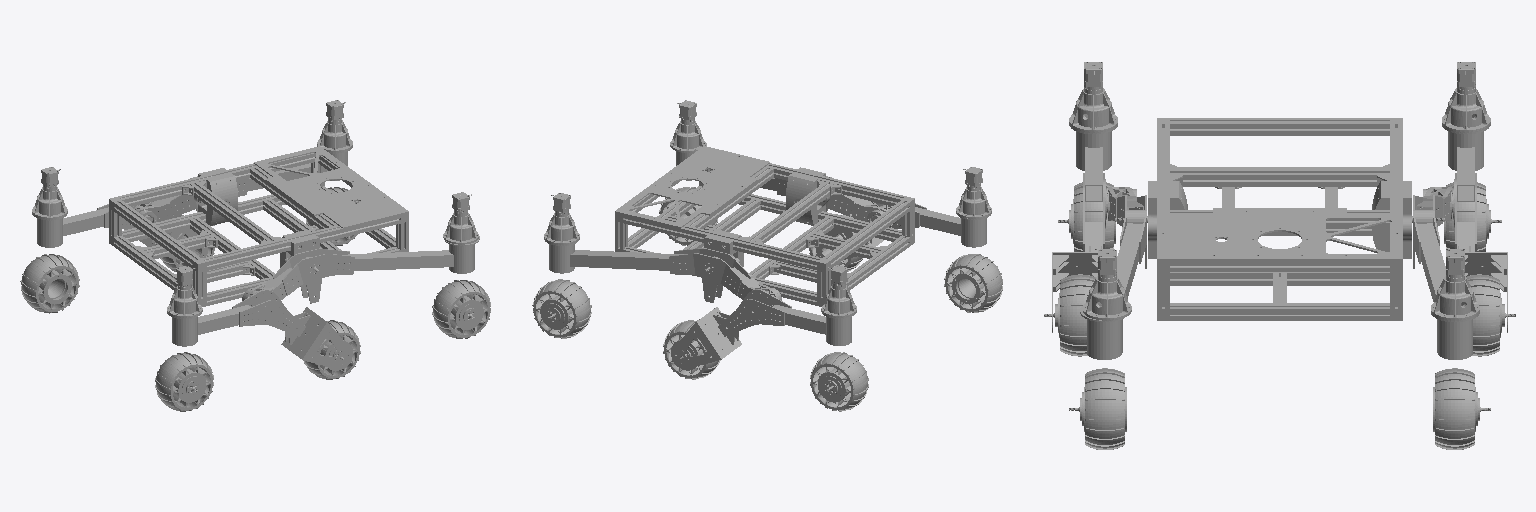
--- What the picture shows (computed from the rendered views, not written in the file) ---
3 views of the same robot in one strip: view 1: azimuth 30°, elevation 25°; view 2: azimuth 150°, elevation 25°; view 3: azimuth 270°, elevation 25° (orthographic).
Model cc8 with 18 links and 17 joints (14 continuous, 3 fixed), rooted at base_footprint, posed all joints at 0.
Visible links, largest first — view 1: base_link, bogie_R_1, rocker_R_1, bogie_L_1, rocker_L_1, wheel_RR_1, wheel_RL_1, wheel_FR_1, wheel_MR_1, case_link_L_1, case_link_R_1; view 2: base_link, bogie_L_1, rocker_L_1, bogie_R_1, wheel_FL_1, wheel_RR_1, wheel_RL_1, rocker_R_1, wheel_ML_1, case_link_R_1, case_link_L_1; view 3: base_link, rocker_L_1, rocker_R_1, bogie_R_1, bogie_L_1, wheel_FL_1, wheel_FR_1, wheel_MR_1, wheel_ML_1, case_link_L_1, wheel_RL_1, wheel_RR_1 (+1 smaller).
Boxes of the visible links, bbox=[...] form: base_link: bbox=[109, 146, 408, 306]; bogie_R_1: bbox=[167, 266, 352, 368]; rocker_R_1: bbox=[242, 192, 479, 303]; bogie_L_1: bbox=[32, 167, 207, 259]; rocker_L_1: bbox=[127, 100, 352, 227]; wheel_RR_1: bbox=[155, 352, 213, 411]; wheel_RL_1: bbox=[20, 254, 79, 313]; wheel_FR_1: bbox=[432, 280, 490, 338]; wheel_MR_1: bbox=[304, 320, 360, 379]; case_link_L_1: bbox=[194, 168, 237, 225]; case_link_R_1: bbox=[280, 230, 319, 272]; base_link: bbox=[615, 146, 914, 306]; bogie_L_1: bbox=[671, 265, 856, 368]; rocker_L_1: bbox=[544, 193, 781, 302]; bogie_R_1: bbox=[816, 167, 991, 259]; wheel_FL_1: bbox=[532, 279, 591, 338]; wheel_RR_1: bbox=[944, 254, 1002, 312]; wheel_RL_1: bbox=[810, 352, 868, 411]; rocker_R_1: bbox=[670, 100, 895, 227]; wheel_ML_1: bbox=[663, 320, 720, 379]; case_link_R_1: bbox=[786, 167, 829, 225]; case_link_L_1: bbox=[704, 229, 743, 271]; base_link: bbox=[1157, 118, 1402, 320]; rocker_L_1: bbox=[1413, 187, 1479, 359]; rocker_R_1: bbox=[1080, 187, 1146, 359]; bogie_R_1: bbox=[1052, 62, 1117, 332]; bogie_L_1: bbox=[1442, 62, 1507, 332]; wheel_FL_1: bbox=[1433, 368, 1490, 449]; wheel_FR_1: bbox=[1069, 368, 1126, 449]; wheel_MR_1: bbox=[1044, 274, 1095, 356]; wheel_ML_1: bbox=[1466, 274, 1515, 356]; case_link_L_1: bbox=[1372, 181, 1444, 258]; wheel_RL_1: bbox=[1444, 182, 1501, 251]; wheel_RR_1: bbox=[1058, 182, 1115, 251].
Size in the robot's own frame: 1.18 by 1.05 by 0.4794 metres.
Meshes: 17 distinct files referenced, 13 mesh visuals loaded (13 binary STL); not drawn: 4 (reference not matched to a file when rendering).

robot.urdf — cc8:
<?xml version="1.0" ?>
<!-- =================================================================================== -->
<!-- |    This document was autogenerated by xacro from cc8.xacro                      | -->
<!-- |    EDITING THIS FILE BY HAND IS NOT RECOMMENDED                                 | -->
<!-- =================================================================================== -->
<robot name="cc8">
  <material name="silver">
    <color rgba="0.700 0.700 0.700 1.000"/>
  </material>
  <transmission name="rocker_joint_L_tran">
    <type>transmission_interface/SimpleTransmission</type>
    <joint name="rocker_joint_L">
      <hardwareInterface>hardware_interface/EffortJointInterface</hardwareInterface>
    </joint>
    <actuator name="rocker_joint_L_actr">
      <hardwareInterface>hardware_interface/EffortJointInterface</hardwareInterface>
      <mechanicalReduction>1</mechanicalReduction>
    </actuator>
  </transmission>
  <transmission name="steering_FL_tran">
    <type>transmission_interface/SimpleTransmission</type>
    <joint name="steering_FL">
      <hardwareInterface>hardware_interface/EffortJointInterface</hardwareInterface>
    </joint>
    <actuator name="steering_FL_actr">
      <hardwareInterface>hardware_interface/EffortJointInterface</hardwareInterface>
      <mechanicalReduction>1</mechanicalReduction>
    </actuator>
  </transmission>
  <transmission name="wheel_joint_FL_tran">
    <type>transmission_interface/SimpleTransmission</type>
    <joint name="wheel_joint_FL">
      <hardwareInterface>hardware_interface/EffortJointInterface</hardwareInterface>
    </joint>
    <actuator name="wheel_joint_FL_actr">
      <hardwareInterface>hardware_interface/EffortJointInterface</hardwareInterface>
      <mechanicalReduction>1</mechanicalReduction>
    </actuator>
  </transmission>
  <transmission name="bogie_joint_L_tran">
    <type>transmission_interface/SimpleTransmission</type>
    <joint name="bogie_joint_L">
      <hardwareInterface>hardware_interface/EffortJointInterface</hardwareInterface>
    </joint>
    <actuator name="bogie_joint_L_actr">
      <hardwareInterface>hardware_interface/EffortJointInterface</hardwareInterface>
      <mechanicalReduction>1</mechanicalReduction>
    </actuator>
  </transmission>
  <transmission name="wheel_joint_ML_tran">
    <type>transmission_interface/SimpleTransmission</type>
    <joint name="wheel_joint_ML">
      <hardwareInterface>hardware_interface/EffortJointInterface</hardwareInterface>
    </joint>
    <actuator name="wheel_joint_ML_actr">
      <hardwareInterface>hardware_interface/EffortJointInterface</hardwareInterface>
      <mechanicalReduction>1</mechanicalReduction>
    </actuator>
  </transmission>
  <transmission name="steering_RL_tran">
    <type>transmission_interface/SimpleTransmission</type>
    <joint name="steering_RL">
      <hardwareInterface>hardware_interface/EffortJointInterface</hardwareInterface>
    </joint>
    <actuator name="steering_RL_actr">
      <hardwareInterface>hardware_interface/EffortJointInterface</hardwareInterface>
      <mechanicalReduction>1</mechanicalReduction>
    </actuator>
  </transmission>
  <transmission name="wheel_joint_RL_tran">
    <type>transmission_interface/SimpleTransmission</type>
    <joint name="wheel_joint_RL">
      <hardwareInterface>hardware_interface/EffortJointInterface</hardwareInterface>
    </joint>
    <actuator name="wheel_joint_RL_actr">
      <hardwareInterface>hardware_interface/EffortJointInterface</hardwareInterface>
      <mechanicalReduction>1</mechanicalReduction>
    </actuator>
  </transmission>
  <transmission name="rocker_joint_R_tran">
    <type>transmission_interface/SimpleTransmission</type>
    <joint name="rocker_joint_R">
      <hardwareInterface>hardware_interface/EffortJointInterface</hardwareInterface>
    </joint>
    <actuator name="rocker_joint_R_actr">
      <hardwareInterface>hardware_interface/EffortJointInterface</hardwareInterface>
      <mechanicalReduction>1</mechanicalReduction>
    </actuator>
  </transmission>
  <transmission name="steering_FR_tran">
    <type>transmission_interface/SimpleTransmission</type>
    <joint name="steering_FR">
      <hardwareInterface>hardware_interface/EffortJointInterface</hardwareInterface>
    </joint>
    <actuator name="steering_FR_actr">
      <hardwareInterface>hardware_interface/EffortJointInterface</hardwareInterface>
      <mechanicalReduction>1</mechanicalReduction>
    </actuator>
  </transmission>
  <transmission name="wheel_joint_FR_tran">
    <type>transmission_interface/SimpleTransmission</type>
    <joint name="wheel_joint_FR">
      <hardwareInterface>hardware_interface/EffortJointInterface</hardwareInterface>
    </joint>
    <actuator name="wheel_joint_FR_actr">
      <hardwareInterface>hardware_interface/EffortJointInterface</hardwareInterface>
      <mechanicalReduction>1</mechanicalReduction>
    </actuator>
  </transmission>
  <transmission name="bogie_joint_R_tran">
    <type>transmission_interface/SimpleTransmission</type>
    <joint name="bogie_joint_R">
      <hardwareInterface>hardware_interface/EffortJointInterface</hardwareInterface>
    </joint>
    <actuator name="bogie_joint_R_actr">
      <hardwareInterface>hardware_interface/EffortJointInterface</hardwareInterface>
      <mechanicalReduction>1</mechanicalReduction>
    </actuator>
  </transmission>
  <transmission name="wheel_joint_MR_tran">
    <type>transmission_interface/SimpleTransmission</type>
    <joint name="wheel_joint_MR">
      <hardwareInterface>hardware_interface/EffortJointInterface</hardwareInterface>
    </joint>
    <actuator name="wheel_joint_MR_actr">
      <hardwareInterface>hardware_interface/EffortJointInterface</hardwareInterface>
      <mechanicalReduction>1</mechanicalReduction>
    </actuator>
  </transmission>
  <transmission name="steering_RR_tran">
    <type>transmission_interface/SimpleTransmission</type>
    <joint name="steering_RR">
      <hardwareInterface>hardware_interface/EffortJointInterface</hardwareInterface>
    </joint>
    <actuator name="steering_RR_actr">
      <hardwareInterface>hardware_interface/EffortJointInterface</hardwareInterface>
      <mechanicalReduction>1</mechanicalReduction>
    </actuator>
  </transmission>
  <transmission name="wheel_joint_RR_tran">
    <type>transmission_interface/SimpleTransmission</type>
    <joint name="wheel_joint_RR">
      <hardwareInterface>hardware_interface/EffortJointInterface</hardwareInterface>
    </joint>
    <actuator name="wheel_joint_RR_actr">
      <hardwareInterface>hardware_interface/EffortJointInterface</hardwareInterface>
      <mechanicalReduction>1</mechanicalReduction>
    </actuator>
  </transmission>
  <link name="base_footprint"/>
  <link name="base_link">
    <inertial>
      <origin rpy="0 0 0" xyz="0.02032158150481281 -0.004132938366153829 0.07847355896271041"/>
      <mass value="31.735326359935303"/>
      <inertia ixx="1.335922" ixy="0.030729" ixz="-0.074555" iyy="2.200752" iyz="0.009644" izz="3.295698"/>
    </inertial>
    <visual>
      <origin rpy="0 0 0" xyz="0 0 0"/>
      <geometry>
        <mesh filename="package://cc8_description/meshes/base_link.stl" scale="0.001 0.001 0.001"/>
      </geometry>
      <material name="silver"/>
    </visual>
    <collision>
      <origin rpy="0 0 0" xyz="0 0 0"/>
      <geometry>
        <mesh filename="package://cc8_description/meshes/base_link.stl" scale="0.001 0.001 0.001"/>
      </geometry>
    </collision>
  </link>
  <link name="case_link_L_1">
    <inertial>
      <origin rpy="0 0 0" xyz="-5.76305672645475e-05 -0.018384505977135424 -0.07500000038013135"/>
      <mass value="1.1591556289566074"/>
      <inertia ixx="0.002558" ixy="1e-06" ixz="-0.0" iyy="0.002056" iyz="0.0" izz="0.001807"/>
    </inertial>
    <visual>
      <origin rpy="0 0 0" xyz="-0.0 -0.275 -0.15"/>
      <geometry>
        <mesh filename="package://cc8_description/meshes/case_link_L_1.stl" scale="0.001 0.001 0.001"/>
      </geometry>
      <material name="silver"/>
    </visual>
    <collision>
      <origin rpy="0 0 0" xyz="-0.0 -0.275 -0.15"/>
      <geometry>
        <mesh filename="package://cc8_description/meshes/case_link_L_1.stl" scale="0.001 0.001 0.001"/>
      </geometry>
    </collision>
  </link>
  <link name="case_link_R_1">
    <inertial>
      <origin rpy="0 0 0" xyz="5.763056728314002e-05 0.018384505977134258 -0.07500000038013133"/>
      <mass value="1.1591556289566074"/>
      <inertia ixx="0.002558" ixy="1e-06" ixz="0.0" iyy="0.002056" iyz="-0.0" izz="0.001807"/>
    </inertial>
    <visual>
      <origin rpy="0 0 0" xyz="0.0 0.275 -0.15"/>
      <geometry>
        <mesh filename="package://cc8_description/meshes/case_link_R_1.stl" scale="0.001 0.001 0.001"/>
      </geometry>
      <material name="silver"/>
    </visual>
    <collision>
      <origin rpy="0 0 0" xyz="0.0 0.275 -0.15"/>
      <geometry>
        <mesh filename="package://cc8_description/meshes/case_link_R_1.stl" scale="0.001 0.001 0.001"/>
      </geometry>
    </collision>
  </link>
  <link name="rocker_L_1">
    <inertial>
      <origin rpy="0 0 0" xyz="0.2902240049859415 0.0708119772157999 0.021743637980664074"/>
      <mass value="2.996960457028018"/>
      <inertia ixx="0.018192" ixy="-0.019888" ixz="-0.030683" iyy="0.219444" iyz="-0.003026" izz="0.208276"/>
    </inertial>
    <visual>
      <origin rpy="0 0 0" xyz="-0.0 -0.2965 -0.075"/>
      <geometry>
        <mesh filename="package://cc8_description/meshes/rocker_L_1.stl" scale="0.001 0.001 0.001"/>
      </geometry>
      <material name="silver"/>
    </visual>
    <collision>
      <origin rpy="0 0 0" xyz="-0.0 -0.2965 -0.075"/>
      <geometry>
        <mesh filename="package://cc8_description/meshes/rocker_L_1.stl" scale="0.001 0.001 0.001"/>
      </geometry>
    </collision>
  </link>
  <link name="steering_fork_FL_1">
    <inertial>
      <origin rpy="0 0 0" xyz="-6.885276269119611e-05 -0.011024168785901178 -0.09406157894668771"/>
      <mass value="2.4293480883478487"/>
      <inertia ixx="0.02426" ixy="-1.3e-05" ixz="-1.5e-05" iyy="0.022285" iyz="-0.002519" izz="0.004801"/>
    </inertial>
    <visual>
      <origin rpy="0 0 0" xyz="-0.496003 -0.3905 -0.029299"/>
      <geometry>
        <mesh filename="package://cc8_description/meshes/steering_fork_FL_1.stl" scale="0.001 0.001 0.001"/>
      </geometry>
      <material name="silver"/>
    </visual>
    <collision>
      <origin rpy="0 0 0" xyz="-0.496003 -0.3905 -0.029299"/>
      <geometry>
        <mesh filename="package://cc8_description/meshes/steering_fork_FL_1.stl" scale="0.001 0.001 0.001"/>
      </geometry>
    </collision>
  </link>
  <link name="wheel_FL_1">
    <inertial>
      <origin rpy="0 0 0" xyz="-1.1388936826950413e-07 -0.05426775742438028 4.641033480856649e-07"/>
      <mass value="1.1863355806975049"/>
      <inertia ixx="0.003179" ixy="-0.0" ixz="0.0" iyy="0.004566" iyz="0.0" izz="0.003179"/>
    </inertial>
    <visual>
      <origin rpy="0 0 0" xyz="-0.496003 -0.4495 0.160201"/>
      <geometry>
        <mesh filename="package://cc8_description/meshes/wheel_FL_1.stl" scale="0.001 0.001 0.001"/>
      </geometry>
      <material name="silver"/>
    </visual>
    <collision>
      <origin rpy="1.5707963267948966 0 0" xyz="0.0 -0.06 0.0"/>
      <!--<geometry>
      <mesh filename="package://cc8_description/meshes/wheel_RR_1.stl" scale="0.001 0.001 0.001"/>
    </geometry>-->
      <geometry>
        <cylinder length="0.09" radius="0.09"/>
      </geometry>
    </collision>
  </link>
  <link name="bogie_L_1">
    <inertial>
      <origin rpy="0 0 0" xyz="-0.09314608246660502 0.03332407904328044 0.009125614751943794"/>
      <mass value="3.563528887834295"/>
      <inertia ixx="0.058221" ixy="-0.002773" ixz="0.081537" iyy="0.208547" iyz="0.001886" izz="0.157317"/>
    </inertial>
    <visual>
      <origin rpy="0 0 0" xyz="0.211097 -0.383131 -0.015175"/>
      <geometry>
        <mesh filename="package://cc8_description/meshes/bogie_L_1.stl" scale="0.001 0.001 0.001"/>
      </geometry>
      <material name="silver"/>
    </visual>
    <collision>
      <origin rpy="0 0 0" xyz="0.211097 -0.383131 -0.015175"/>
      <geometry>
        <mesh filename="package://cc8_description/meshes/bogie_L_1.stl" scale="0.001 0.001 0.001"/>
      </geometry>
    </collision>
  </link>
  <link name="wheel_ML_1">
    <inertial>
      <origin rpy="0 0 0" xyz="3.282565275457885e-07 -0.0542676471666968 -1.748023029657375e-07"/>
      <mass value="1.1863355806975049"/>
      <inertia ixx="0.003179" ixy="-0.0" ixz="0.0" iyy="0.004566" iyz="0.0" izz="0.003179"/>
    </inertial>
    <visual>
      <origin rpy="0 0 0" xyz="5e-05 -0.504568 0.160663"/>
      <geometry>
        <mesh filename="package://cc8_description/meshes/wheel_ML_1.stl" scale="0.001 0.001 0.001"/>
      </geometry>
      <material name="silver"/>
    </visual>
    <collision>
      <origin rpy="1.5707963267948966 0 0" xyz="0.0 -0.06 0.0"/>
      <!--<geometry>
      <mesh filename="package://cc8_description/meshes/wheel_RR_1.stl" scale="0.001 0.001 0.001"/>
    </geometry>-->
      <geometry>
        <cylinder length="0.09" radius="0.09"/>
      </geometry>
    </collision>
  </link>
  <link name="steering_fork_RL_1">
    <inertial>
      <origin rpy="0 0 0" xyz="-6.889446618985051e-05 -0.011024058527650371 -0.09406208347131854"/>
      <mass value="2.4293480883478487"/>
      <inertia ixx="0.02426" ixy="-1.3e-05" ixz="-1.5e-05" iyy="0.022285" iyz="-0.002519" izz="0.004801"/>
    </inertial>
    <visual>
      <origin rpy="0 0 0" xyz="0.503097 -0.414731 -0.025175"/>
      <geometry>
        <mesh filename="package://cc8_description/meshes/steering_fork_RL_1.stl" scale="0.001 0.001 0.001"/>
      </geometry>
      <material name="silver"/>
    </visual>
    <collision>
      <origin rpy="0 0 0" xyz="0.503097 -0.414731 -0.025175"/>
      <geometry>
        <mesh filename="package://cc8_description/meshes/steering_fork_RL_1.stl" scale="0.001 0.001 0.001"/>
      </geometry>
    </collision>
  </link>
  <link name="wheel_RL_1">
    <inertial>
      <origin rpy="0 0 0" xyz="-1.5559286714594833e-07 -0.05426764716612953 -4.0421283015179554e-08"/>
      <mass value="1.1863355806975049"/>
      <inertia ixx="0.003179" ixy="-0.0" ixz="0.0" iyy="0.004566" iyz="0.0" izz="0.003179"/>
    </inertial>
    <visual>
      <origin rpy="0 0 0" xyz="0.503097 -0.473731 0.164325"/>
      <geometry>
        <mesh filename="package://cc8_description/meshes/wheel_RL_1.stl" scale="0.001 0.001 0.001"/>
      </geometry>
      <material name="silver"/>
    </visual>
    <collision>
      <origin rpy="1.5707963267948966 0 0" xyz="0.0 -0.06 0.0"/>
      <!--<geometry>
      <mesh filename="package://cc8_description/meshes/wheel_RR_1.stl" scale="0.001 0.001 0.001"/>
    </geometry>-->
      <geometry>
        <cylinder length="0.09" radius="0.09"/>
      </geometry>
    </collision>
  </link>
  <link name="rocker_R_1">
    <inertial>
      <origin rpy="0 0 0" xyz="0.2902238062893875 -0.06841948402815423 0.02174359272823953"/>
      <mass value="2.996961698235828"/>
      <inertia ixx="0.017884" ixy="0.018413" ixz="-0.030683" iyy="0.219444" iyz="0.002496" izz="0.207968"/>
    </inertial>
    <visual>
      <origin rpy="0 0 0" xyz="0.0 0.2965 -0.075"/>
      <geometry>
        <mesh filename="package://cc8_description/meshes/rocker_R_1.stl" scale="0.001 0.001 0.001"/>
      </geometry>
      <material name="silver"/>
    </visual>
    <collision>
      <origin rpy="0 0 0" xyz="0.0 0.2965 -0.075"/>
      <geometry>
        <mesh filename="package://cc8_description/meshes/rocker_R_1.stl" scale="0.001 0.001 0.001"/>
      </geometry>
    </collision>
  </link>
  <link name="steering_fork_FR_1">
    <inertial>
      <origin rpy="0 0 0" xyz="6.885206036416625e-05 0.011024168785899957 -0.09406157894668979"/>
      <mass value="2.42934808834785"/>
      <inertia ixx="0.02426" ixy="-1.3e-05" ixz="1.5e-05" iyy="0.022285" iyz="0.002519" izz="0.004801"/>
    </inertial>
    <visual>
      <origin rpy="0 0 0" xyz="-0.496003 0.3905 -0.029299"/>
      <geometry>
        <mesh filename="package://cc8_description/meshes/steering_fork_FR_1.stl" scale="0.001 0.001 0.001"/>
      </geometry>
      <material name="silver"/>
    </visual>
    <collision>
      <origin rpy="0 0 0" xyz="-0.496003 0.3905 -0.029299"/>
      <geometry>
        <mesh filename="package://cc8_description/meshes/steering_fork_FR_1.stl" scale="0.001 0.001 0.001"/>
      </geometry>
    </collision>
  </link>
  <link name="wheel_FR_1">
    <inertial>
      <origin rpy="0 0 0" xyz="-1.2726399756246565e-07 0.05426787444710596 3.4046564675871416e-07"/>
      <mass value="1.1863358649901974"/>
      <inertia ixx="0.003179" ixy="-0.0" ixz="-0.0" iyy="0.004566" iyz="0.0" izz="0.003179"/>
    </inertial>
    <visual>
      <origin rpy="0 0 0" xyz="-0.496003 0.4495 0.160201"/>
      <geometry>
        <mesh filename="package://cc8_description/meshes/wheel_FR_1.stl" scale="0.001 0.001 0.001"/>
      </geometry>
      <material name="silver"/>
    </visual>
    <collision>
      <origin rpy="1.5707963267948966 0 0" xyz="0.0 0.06 0.0"/>
      <!--<geometry>
      <mesh filename="package://cc8_description/meshes/wheel_RR_1.stl" scale="0.001 0.001 0.001"/>
    </geometry>-->
      <geometry>
        <cylinder length="0.09" radius="0.09"/>
      </geometry>
    </collision>
  </link>
  <link name="bogie_R_1">
    <inertial>
      <origin rpy="0 0 0" xyz="-0.09314608227719093 -0.03332407904097906 0.009125614666047022"/>
      <mass value="3.563528891417035"/>
      <inertia ixx="0.058221" ixy="0.002773" ixz="0.081537" iyy="0.208547" iyz="-0.001886" izz="0.157317"/>
    </inertial>
    <visual>
      <origin rpy="0 0 0" xyz="0.211097 0.383131 -0.015175"/>
      <geometry>
        <mesh filename="package://cc8_description/meshes/bogie_R_1.stl" scale="0.001 0.001 0.001"/>
      </geometry>
      <material name="silver"/>
    </visual>
    <collision>
      <origin rpy="0 0 0" xyz="0.211097 0.383131 -0.015175"/>
      <geometry>
        <mesh filename="package://cc8_description/meshes/bogie_R_1.stl" scale="0.001 0.001 0.001"/>
      </geometry>
    </collision>
  </link>
  <link name="wheel_MR_1">
    <inertial>
      <origin rpy="0 0 0" xyz="3.148818914003169e-07 0.05426776418942242 -2.984400040983992e-07"/>
      <mass value="1.1863358649901974"/>
      <inertia ixx="0.003179" ixy="-0.0" ixz="-0.0" iyy="0.004566" iyz="0.0" izz="0.003179"/>
    </inertial>
    <visual>
      <origin rpy="0 0 0" xyz="5e-05 0.504568 0.160663"/>
      <geometry>
        <mesh filename="package://cc8_description/meshes/wheel_MR_1.stl" scale="0.001 0.001 0.001"/>
      </geometry>
      <material name="silver"/>
    </visual>
    <collision>
      <origin rpy="1.5707963267948966 0 0" xyz="0.0 0.06 0.0"/>
      <!--<geometry>
      <mesh filename="package://cc8_description/meshes/wheel_RR_1.stl" scale="0.001 0.001 0.001"/>
    </geometry>-->
      <geometry>
        <cylinder length="0.09" radius="0.09"/>
      </geometry>
    </collision>
  </link>
  <link name="steering_fork_RR_1">
    <inertial>
      <origin rpy="0 0 0" xyz="6.881035686501225e-05 0.01102405852764915 -0.09406208347132052"/>
      <mass value="2.42934808834785"/>
      <inertia ixx="0.02426" ixy="-1.3e-05" ixz="1.5e-05" iyy="0.022285" iyz="0.002519" izz="0.004801"/>
    </inertial>
    <visual>
      <origin rpy="0 0 0" xyz="0.503097 0.414731 -0.025175"/>
      <geometry>
        <mesh filename="package://cc8_description/meshes/steering_fork_RR_1.stl" scale="0.001 0.001 0.001"/>
      </geometry>
      <material name="silver"/>
    </visual>
    <collision>
      <origin rpy="0 0 0" xyz="0.503097 0.414731 -0.025175"/>
      <geometry>
        <mesh filename="package://cc8_description/meshes/steering_fork_RR_1.stl" scale="0.001 0.001 0.001"/>
      </geometry>
    </collision>
  </link>
  <link name="wheel_RR_1">
    <inertial>
      <origin rpy="0 0 0" xyz="-1.6896749654993215e-07 0.05426776418885526 -1.640589839813078e-07"/>
      <mass value="1.1863358649901974"/>
      <inertia ixx="0.003179" ixy="-0.0" ixz="-0.0" iyy="0.004566" iyz="0.0" izz="0.003179"/>
    </inertial>
    <visual>
      <origin rpy="0 0 0" xyz="0.503097 0.473731 0.164325"/>
      <geometry>
        <mesh filename="package://cc8_description/meshes/wheel_RR_1.stl" scale="0.001 0.001 0.001"/>
      </geometry>
      <material name="silver"/>
    </visual>
    <collision>
      <origin rpy="1.5707963267948966 0 0" xyz="0.0 0.06 0.0"/>
      <!--<geometry>
      <mesh filename="package://cc8_description/meshes/wheel_RR_1.stl" scale="0.001 0.001 0.001"/>
    </geometry>-->
      <geometry>
        <cylinder length="0.09" radius="0.09"/>
      </geometry>
    </collision>
  </link>
  <joint name="base_joint" type="fixed">
    <origin rpy="0 0 0" xyz="0 0 0.25"/>
    <parent link="base_footprint"/>
    <child link="base_link"/>
  </joint>
  <joint name="fixed_joint_L" type="fixed">
    <origin rpy="0 0 0" xyz="0.0 0.275 0.15"/>
    <parent link="base_link"/>
    <child link="case_link_L_1"/>
  </joint>
  <joint name="fixed_joint_R" type="fixed">
    <origin rpy="0 0 0" xyz="0.0 -0.275 0.15"/>
    <parent link="base_link"/>
    <child link="case_link_R_1"/>
  </joint>
  <joint name="rocker_joint_L" type="continuous">
    <origin rpy="0 0 0" xyz="0.0 0.0215 -0.075"/>
    <parent link="case_link_L_1"/>
    <child link="rocker_L_1"/>
    <axis xyz="0.0 1.0 -0.0"/>
    <dynamics damping="0.9" friction="1.0"/>
  </joint>
  <joint name="steering_FL" type="continuous">
    <origin rpy="0 0 0" xyz="0.496003 0.094 -0.045701"/>
    <parent link="rocker_L_1"/>
    <child link="steering_fork_FL_1"/>
    <axis xyz="0.0 0.0 -1.0"/>
  </joint>
  <joint name="wheel_joint_FL" type="continuous">
    <origin rpy="0 0 0" xyz="0.0 0.059 -0.1895"/>
    <parent link="steering_fork_FL_1"/>
    <child link="wheel_FL_1"/>
    <axis xyz="0.0 1.0 -0.0"/>
  </joint>
  <joint name="bogie_joint_L" type="continuous">
    <origin rpy="0 0 0" xyz="-0.211097 0.086631 -0.059825"/>
    <parent link="rocker_L_1"/>
    <child link="bogie_L_1"/>
    <axis xyz="-0.0 -1.0 0.0"/>
  </joint>
  <joint name="wheel_joint_ML" type="continuous">
    <origin rpy="0 0 0" xyz="0.211047 0.121437 -0.175838"/>
    <parent link="bogie_L_1"/>
    <child link="wheel_ML_1"/>
    <axis xyz="0.0 -1.0 0.0"/>
  </joint>
  <joint name="steering_RL" type="continuous">
    <origin rpy="0 0 0" xyz="-0.292 0.0316 0.01"/>
    <parent link="bogie_L_1"/>
    <child link="steering_fork_RL_1"/>
    <axis xyz="0.0 0.0 -1.0"/>
  </joint>
  <joint name="wheel_joint_RL" type="continuous">
    <origin rpy="0 0 0" xyz="0.0 0.059 -0.1895"/>
    <parent link="steering_fork_RL_1"/>
    <child link="wheel_RL_1"/>
    <axis xyz="0.0 1.0 -0.0"/>
  </joint>
  <joint name="rocker_joint_R" type="continuous">
    <origin rpy="0 0 0" xyz="0.0 -0.0215 -0.075"/>
    <parent link="case_link_R_1"/>
    <child link="rocker_R_1"/>
    <axis xyz="-0.0 -1.0 -0.0"/>
    <dynamics damping="0.9" friction="1.0"/>
    <mimic joint="rocker_joint_L"/>
  </joint>
  <joint name="steering_FR" type="continuous">
    <origin rpy="0 0 0" xyz="0.496003 -0.094 -0.045701"/>
    <parent link="rocker_R_1"/>
    <child link="steering_fork_FR_1"/>
    <axis xyz="0.0 -0.0 -1.0"/>
  </joint>
  <joint name="wheel_joint_FR" type="continuous">
    <origin rpy="0 0 0" xyz="0.0 -0.059 -0.1895"/>
    <parent link="steering_fork_FR_1"/>
    <child link="wheel_FR_1"/>
    <axis xyz="-0.0 -1.0 -0.0"/>
  </joint>
  <joint name="bogie_joint_R" type="continuous">
    <origin rpy="0 0 0" xyz="-0.211097 -0.086631 -0.059825"/>
    <parent link="rocker_R_1"/>
    <child link="bogie_R_1"/>
    <axis xyz="-0.0 -1.0 -0.0"/>
  </joint>
  <joint name="wheel_joint_MR" type="continuous">
    <origin rpy="0 0 0" xyz="0.211047 -0.121437 -0.175838"/>
    <parent link="bogie_R_1"/>
    <child link="wheel_MR_1"/>
    <axis xyz="-0.0 -1.0 -0.0"/>
  </joint>
  <joint name="steering_RR" type="continuous">
    <origin rpy="0 0 0" xyz="-0.292 -0.0316 0.01"/>
    <parent link="bogie_R_1"/>
    <child link="steering_fork_RR_1"/>
    <axis xyz="0.0 -0.0 -1.0"/>
  </joint>
  <joint name="wheel_joint_RR" type="continuous">
    <origin rpy="0 0 0" xyz="0.0 -0.059 -0.1895"/>
    <parent link="steering_fork_RR_1"/>
    <child link="wheel_RR_1"/>
    <axis xyz="-0.0 -1.0 -0.0"/>
  </joint>
</robot>
